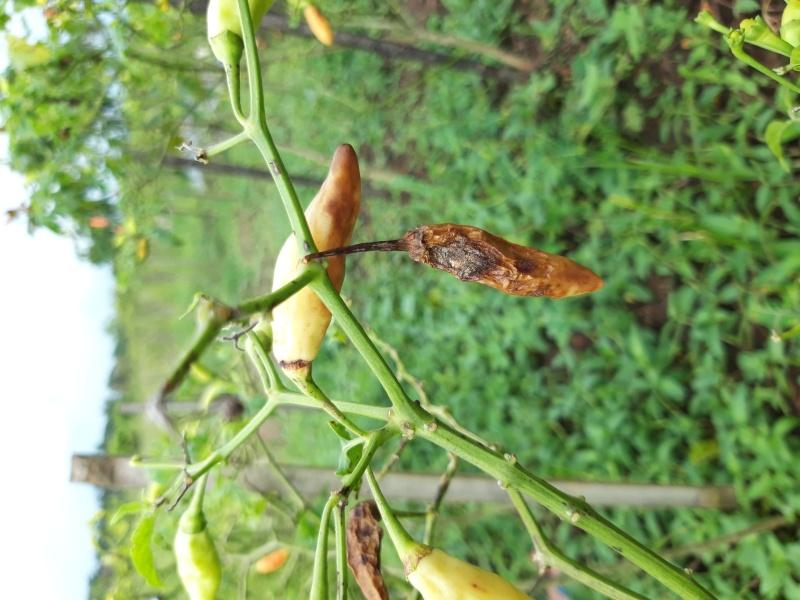antraknosa: (270, 143, 360, 359), (405, 218, 602, 297), (344, 500, 394, 600), (343, 506, 384, 600)
cabai_normal: (409, 542, 532, 600), (172, 527, 221, 600), (299, 4, 339, 46)
